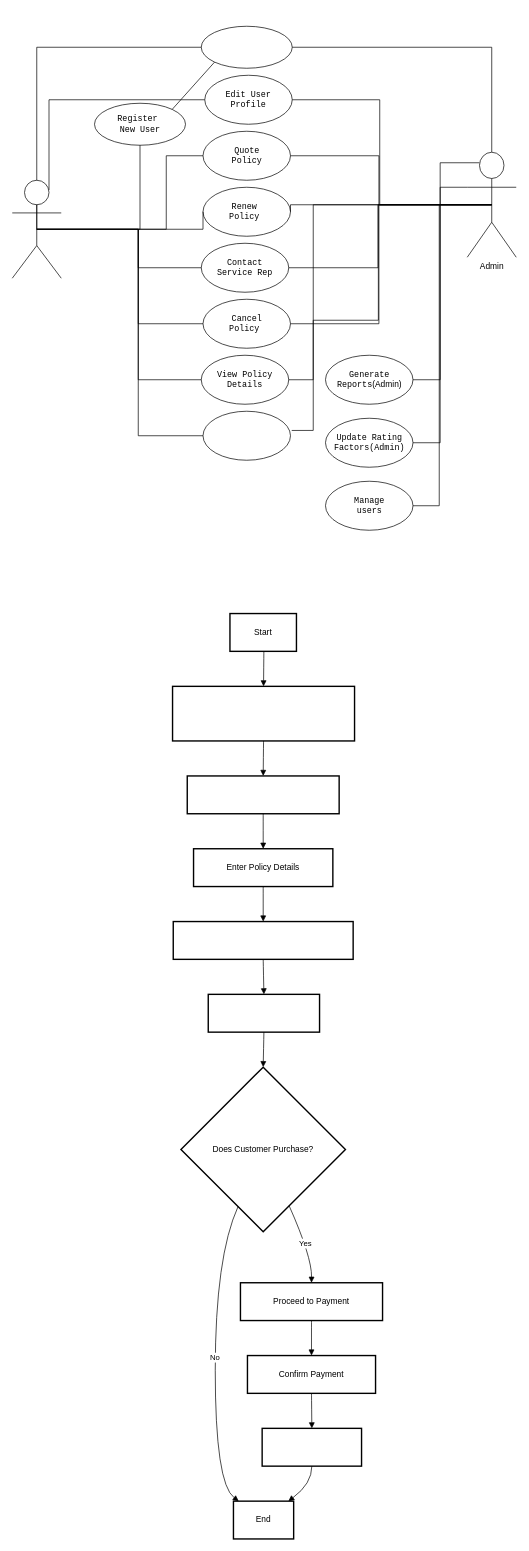
The diagram is 529 pixels wide and 1551 high, and some of its shapes have lost their labels. The shapes that lost their labels are listed below. From the top down, each one's box as (x1, y1, x2, y2) in pixels, then its label:
(201, 26, 292, 68): Login
(12, 180, 61, 278): Customar
(202, 411, 290, 460): Purchace policy
(172, 685, 355, 741): Customer selects 'Get a Quote'
(186, 775, 340, 814): Enter Personal Details
(172, 920, 354, 960): System Calculates Premium
(207, 993, 320, 1032): Display Quote
(261, 1427, 362, 1466): Issue Policy
